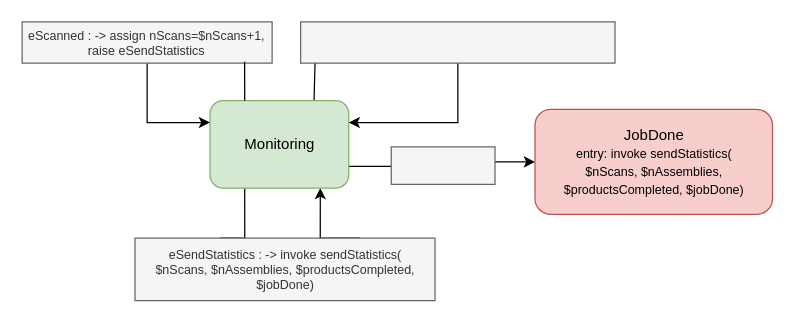
Some shapes in this 795 by 323 pixel diagram are drawn without their labels. The shapes that lost their labels are listed below. From the top down, each one's box as (x1, y1, x2, y2) in pixels, then its label:
(299, 21, 615, 63): eAssemblyComplete : -> assign nAssemblies=$nAssemblies+1, raise eSendStatistics
(390, 146, 495, 184): eJobDone : ->
